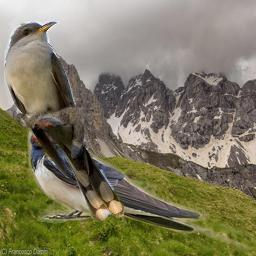Cuckoo: (4, 21, 124, 221)
Swallow: (27, 113, 254, 250)
